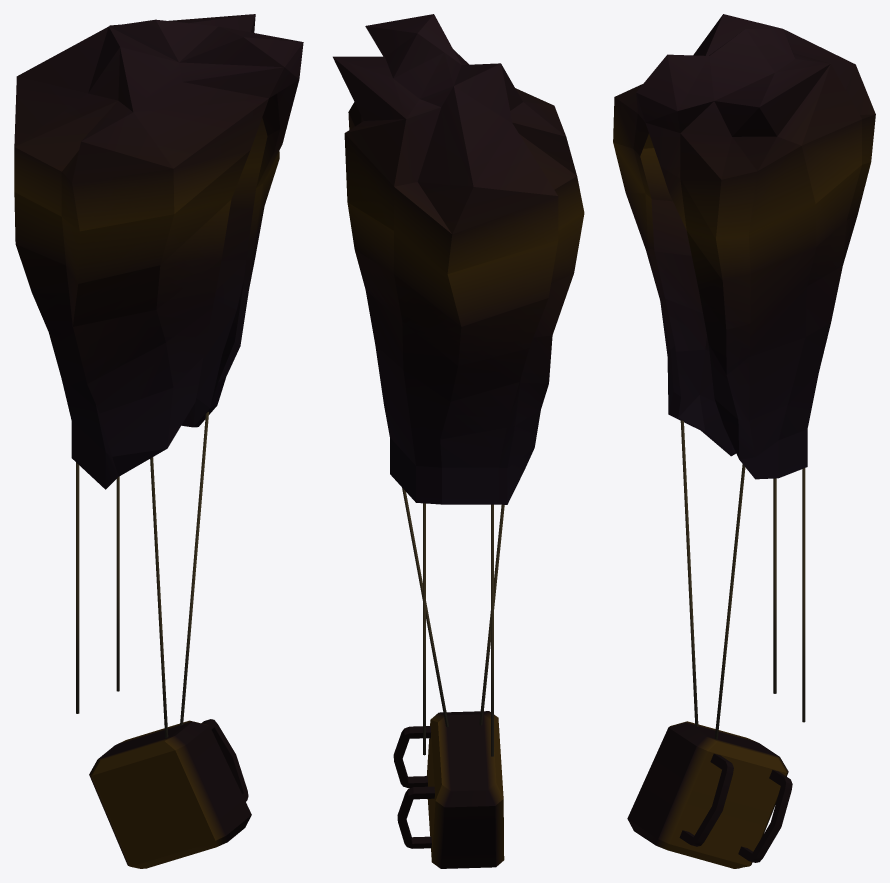
File: parachute_grp.fbx
3 views of the same model, side by side, from view 1: azimuth 30°, elevation 25°; view 2: azimuth 150°, elevation 25°; view 3: azimuth 270°, elevation 25° (orthographic). The views are drawn at different scales.
Visible parts, largest first — view 1: parachute_01, parachuteBag_01, parachuteCord_01; view 2: parachute_01, parachuteBag_01, parachuteCord_01; view 3: parachute_01, parachuteBag_01, parachuteCord_01.
Part boxes in pixels (<box>): parachute_01: <box>14,14,303,713</box>; parachuteBag_01: <box>89,719,251,868</box>; parachuteCord_01: <box>150,412,208,738</box>; parachute_01: <box>333,14,584,756</box>; parachuteBag_01: <box>393,711,504,868</box>; parachuteCord_01: <box>402,488,504,727</box>; parachute_01: <box>613,14,875,722</box>; parachuteBag_01: <box>627,721,792,868</box>; parachuteCord_01: <box>680,420,745,739</box>.
Bounding box in the file's own units: 78.27 × 256 × 72.69.
